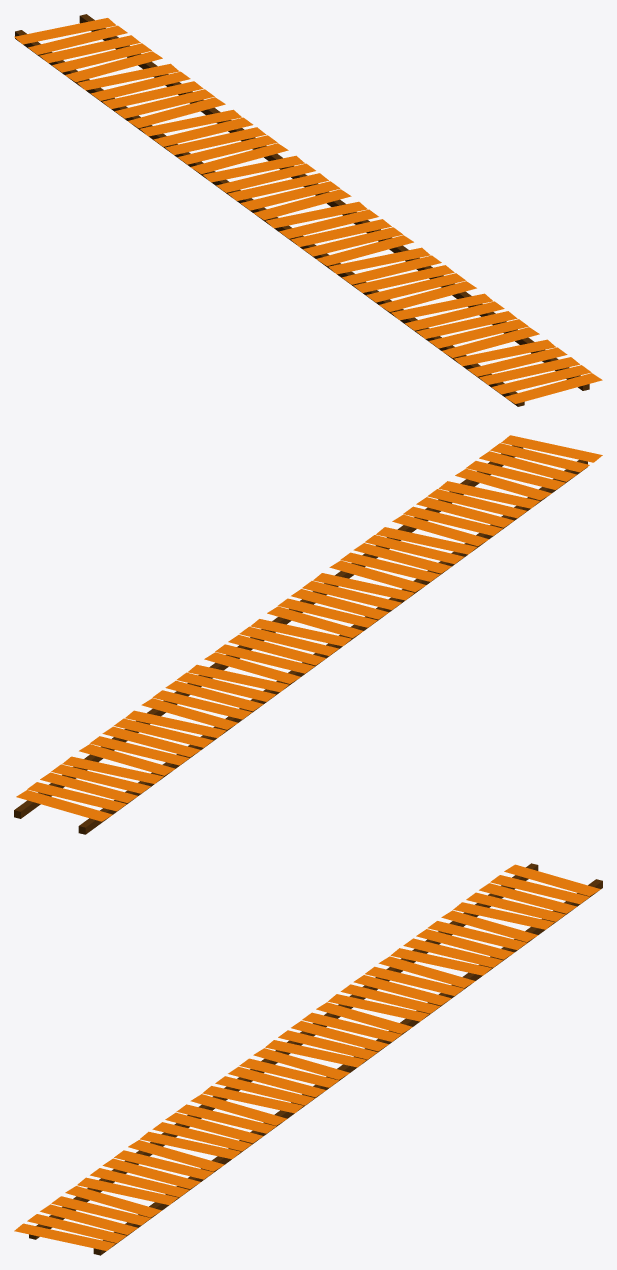
The model's file is bridge1.obj.
3 views of the same model, one above another, from view 1: azimuth 30°, elevation 25°; view 2: azimuth 150°, elevation 25°; view 3: azimuth 330°, elevation 25° (orthographic).
Parts seen in each view (by area): view 1: Cube_Cube.001; view 2: Cube_Cube.001; view 3: Cube_Cube.001.
Boxes of the visible parts, left/top/right/bottom form: Cube_Cube.001: left=14, top=14, right=602, bottom=406; Cube_Cube.001: left=14, top=435, right=602, bottom=834; Cube_Cube.001: left=14, top=863, right=602, bottom=1255.
Size of the model in its own units: 2.02 by 0.2012 by 19.53.
Materials: 1 (1 with a texture image).
